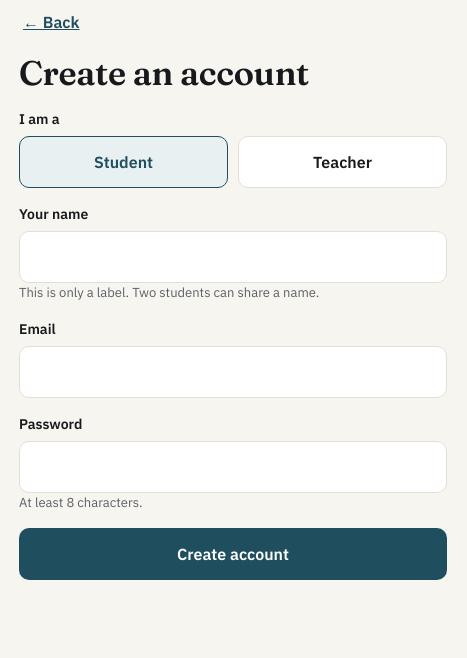
creating an account › shows the server's message when signup fails
This screenshot has width=467, height=658.
In the field labelled "Your name": (233, 257) x1=19 y1=231 x2=447 y2=283, type "Priya Nair"
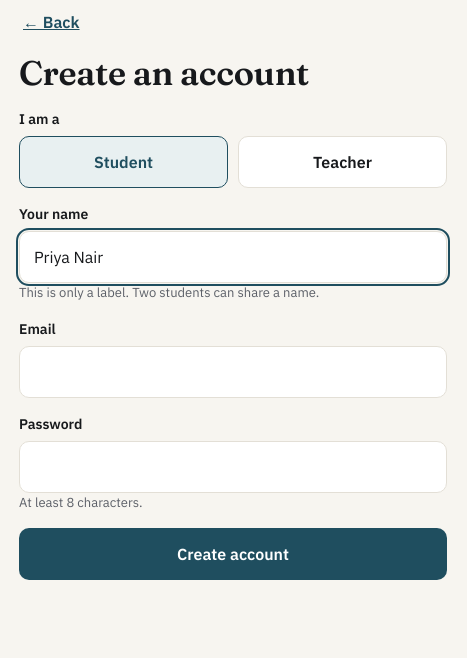
In the field labelled "Email": (233, 372) x1=19 y1=346 x2=447 y2=398, type "priya@test.in"
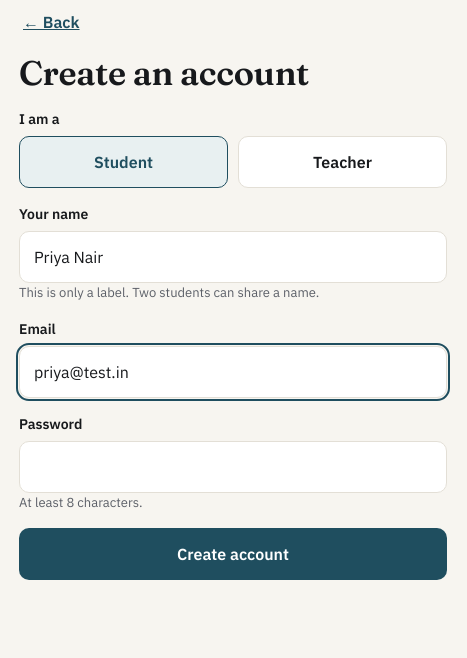
In the password field labelled "Password": (233, 467) x1=19 y1=441 x2=447 y2=493, type "password123"
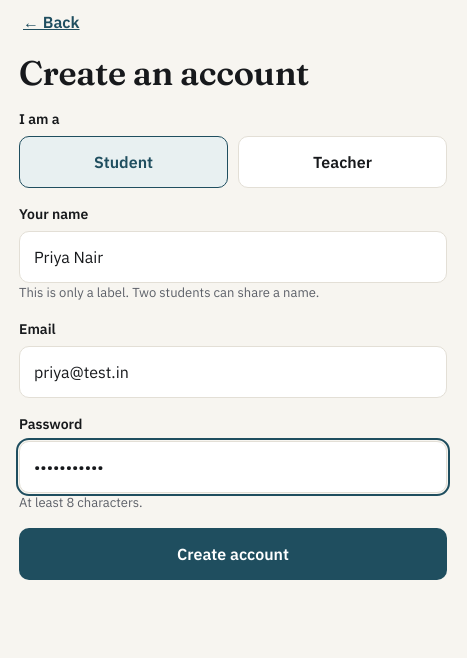
Click the button "Create account": (233, 554) x1=19 y1=528 x2=447 y2=580
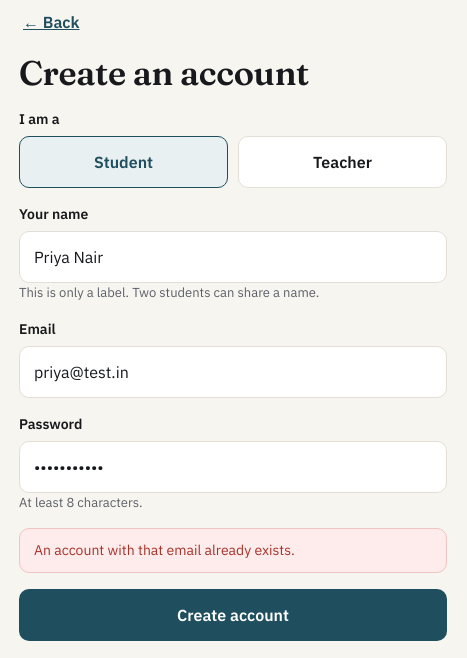
Now the text "An account with that email already exists." is shown, box x1=19 y1=528 x2=447 y2=573
